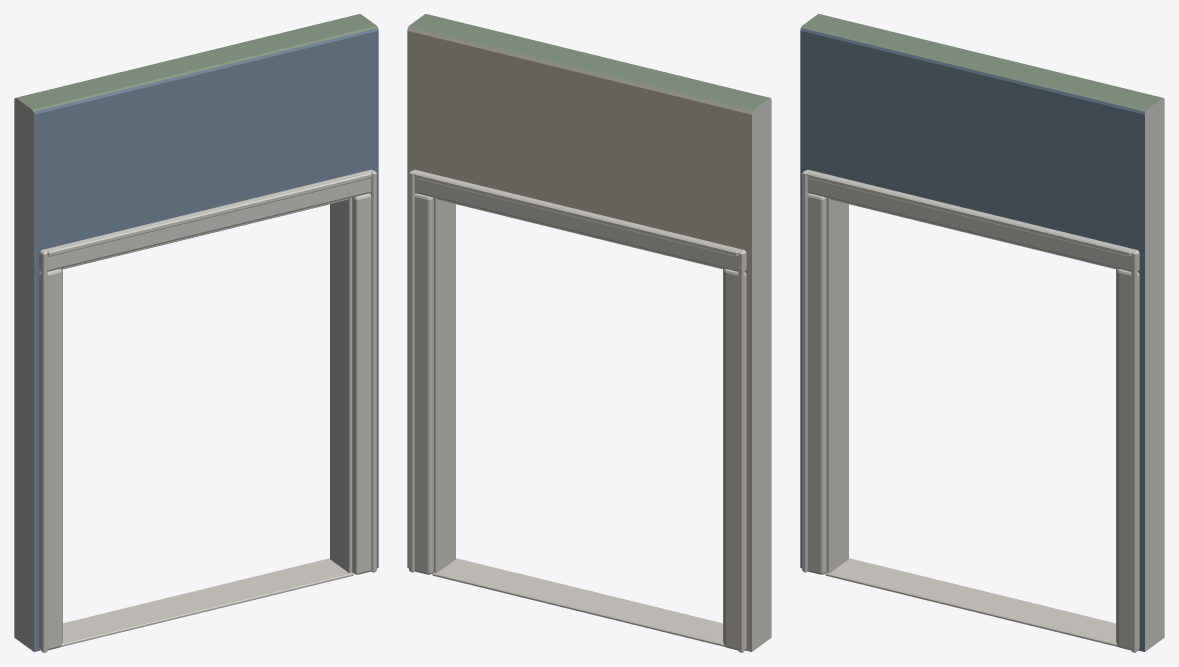
The model's file is SM_Kit_Wall_Door2.glb.
3 renders of one model, left to right at view 1: azimuth 30°, elevation 25°; view 2: azimuth 150°, elevation 25°; view 3: azimuth 330°, elevation 25°, orthographic.
Parts seen in each view (by area): view 1: SM_Kit_Wall_Door2; view 2: SM_Kit_Wall_Door2; view 3: SM_Kit_Wall_Door2.
Boxes of the visible parts, x1,y1,x2,y2 form: SM_Kit_Wall_Door2: [14, 14, 378, 652]; SM_Kit_Wall_Door2: [407, 14, 771, 652]; SM_Kit_Wall_Door2: [800, 14, 1164, 652].
Size of the model in its own units: 2 by 3 by 0.28.
